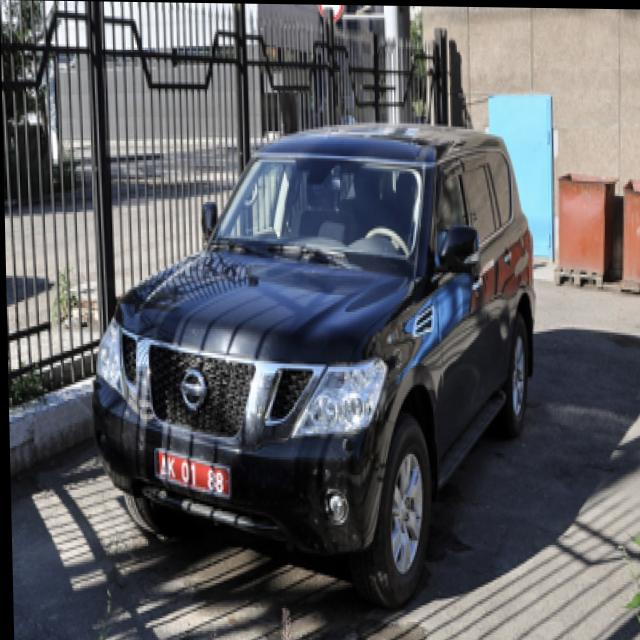licence: (152, 447, 226, 499)
